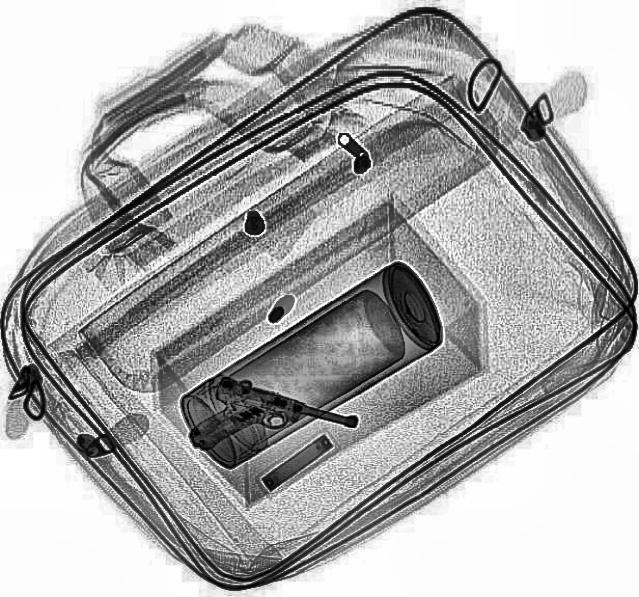Gun: (184, 373, 362, 487)
